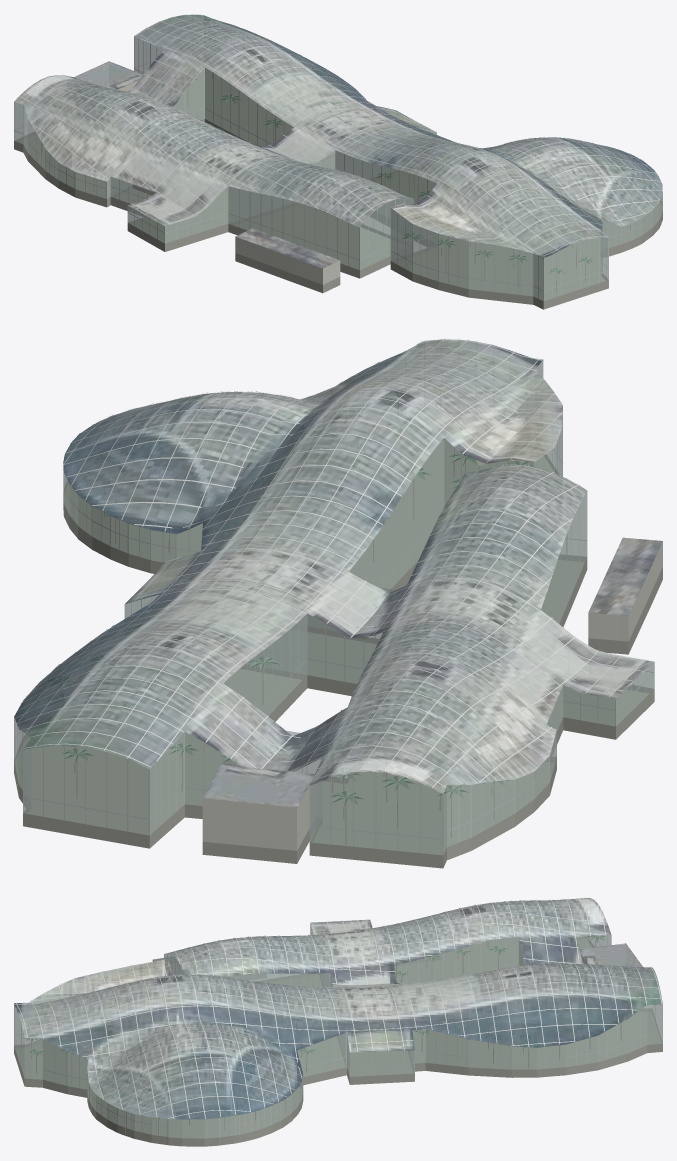
File: kitayama-conservatory.glb
The picture shows the model from 3 angles, top to bottom: view 1: azimuth 30°, elevation 25°; view 2: azimuth 150°, elevation 25°; view 3: azimuth 270°, elevation 25°; orthographic projection. The views are drawn at different scales.
Parts seen in each view (by area): view 1: Roof, Vertical glass, Floor, Frame, Plinth, Service walls, Planting; view 2: Roof, Vertical glass, Floor, Frame, Plinth, Service walls, Planting; view 3: Roof, Vertical glass, Floor, Frame, Plinth, Planting.
Boxes of the visible parts, left/top/right/bottom form: Roof: left=14, top=14, right=662, bottom=268; Vertical glass: left=14, top=14, right=662, bottom=300; Floor: left=19, top=68, right=662, bottom=300; Frame: left=14, top=14, right=662, bottom=300; Plinth: left=14, top=119, right=662, bottom=309; Service walls: left=118, top=80, right=340, bottom=284; Planting: left=31, top=78, right=592, bottom=273; Roof: left=14, top=339, right=662, bottom=807; Vertical glass: left=14, top=339, right=654, bottom=855; Floor: left=15, top=439, right=648, bottom=854; Frame: left=14, top=338, right=654, bottom=854; Plinth: left=14, top=454, right=662, bottom=868; Service walls: left=202, top=541, right=662, bottom=850; Planting: left=62, top=438, right=536, bottom=806; Roof: left=14, top=898, right=662, bottom=1119; Vertical glass: left=14, top=898, right=662, bottom=1138; Floor: left=15, top=937, right=661, bottom=1138; Frame: left=14, top=898, right=662, bottom=1138; Plinth: left=14, top=937, right=662, bottom=1146; Planting: left=26, top=935, right=604, bottom=1118.
Bounding box in the file's own units: 84.5 × 15.55 × 112.
Materials: 8 (1 with a texture image).
